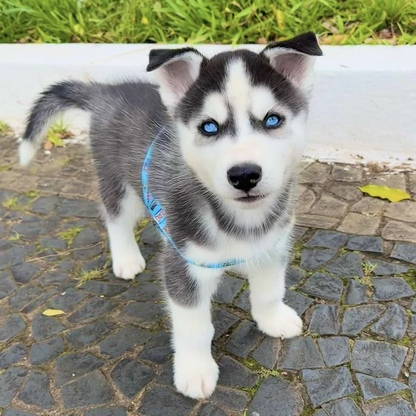husky: (14, 29, 327, 405)
